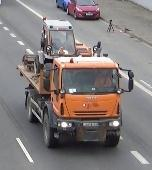Car: (67, 0, 100, 20)
Truck: (18, 18, 133, 148)
